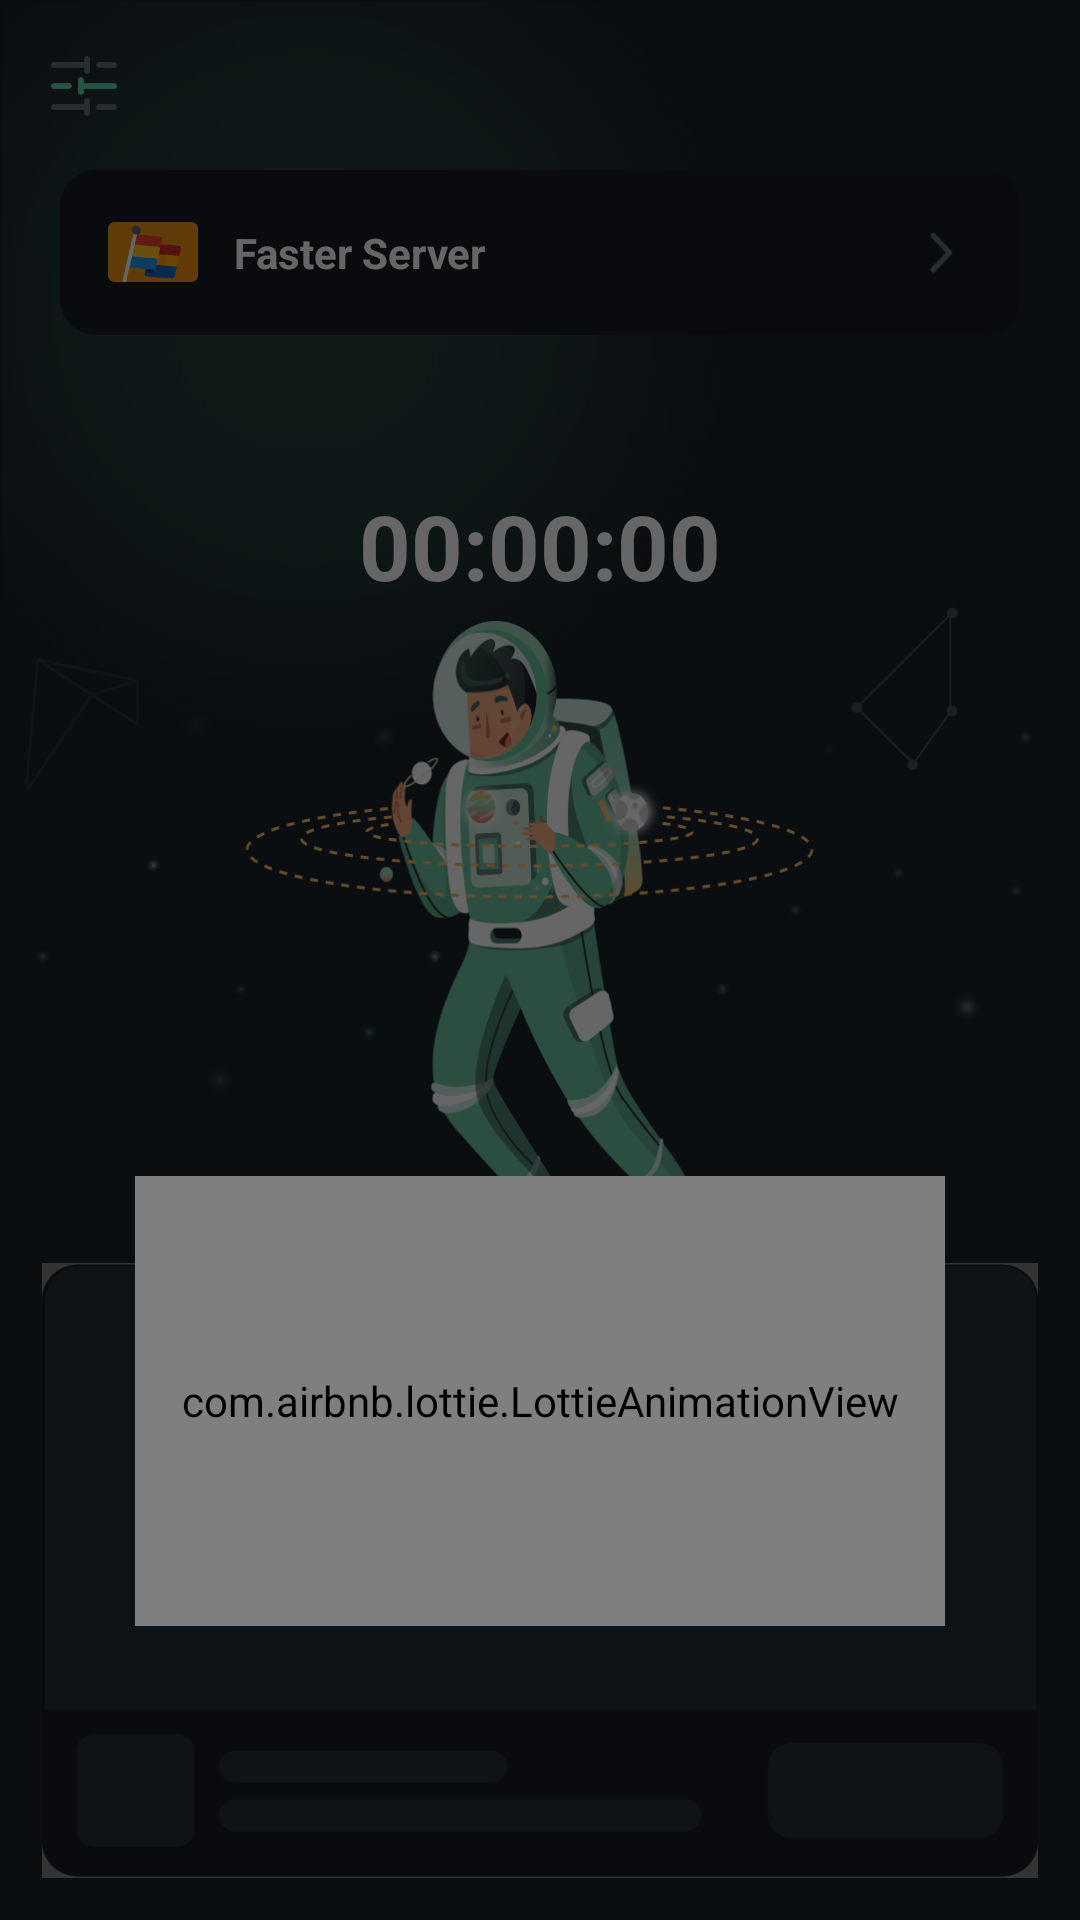

Point at icon controls on the screen. Image size 1080x1920, points as [x,y].
right: [941,252]
